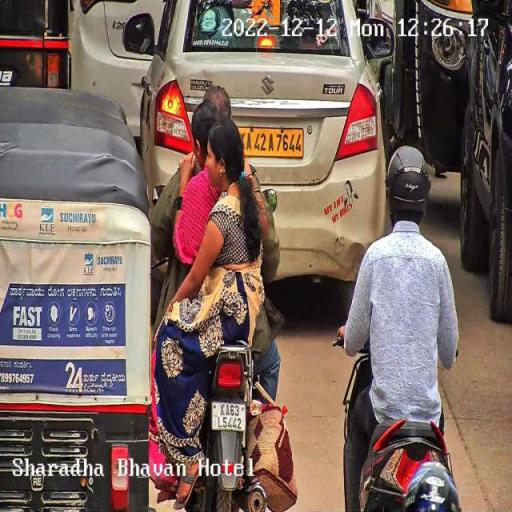tripple riding: (148, 76, 284, 426)
